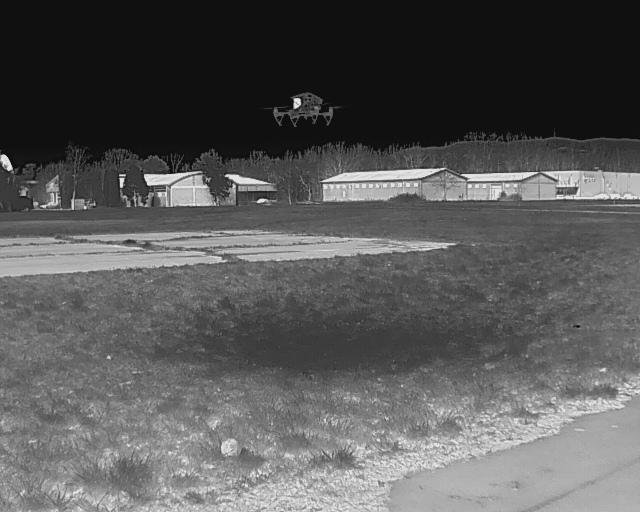drone: (265, 82, 340, 134)
